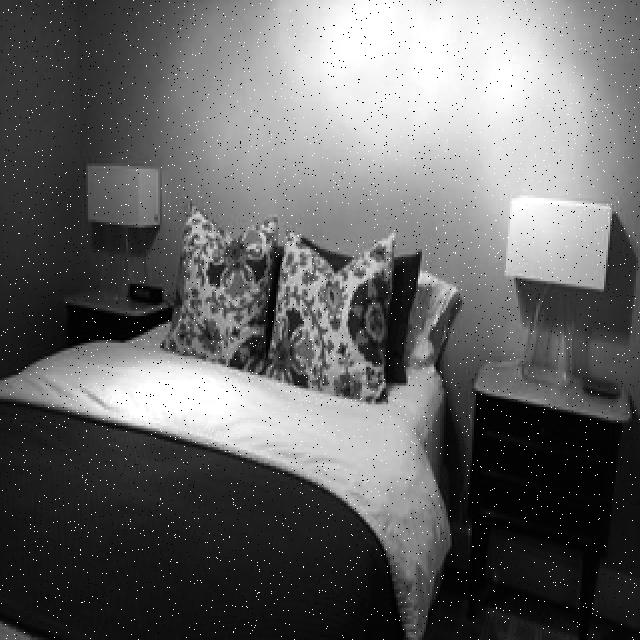bed: (0, 201, 460, 640)
